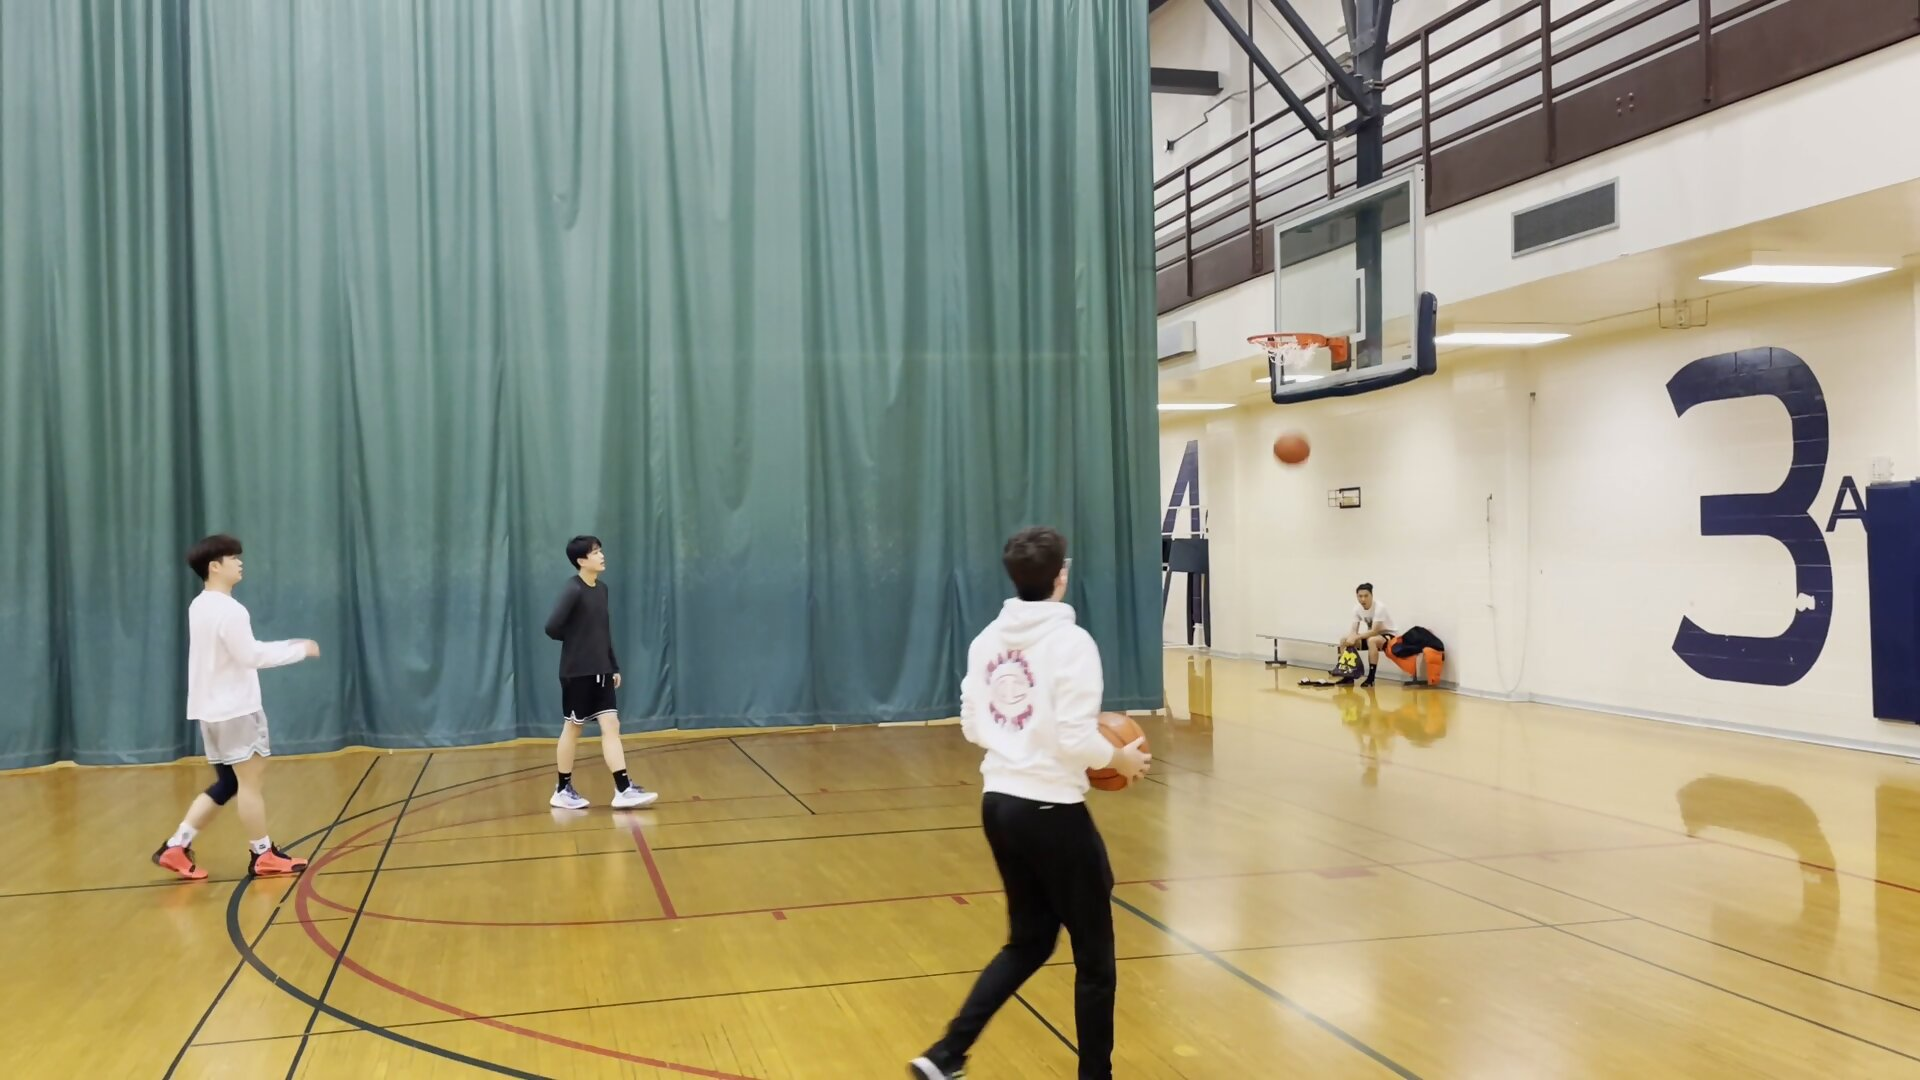ball: (1083, 708, 1169, 797), (1267, 426, 1316, 472)
net: (1257, 344, 1322, 368)
player: (944, 522, 1135, 1080), (150, 531, 333, 883), (535, 532, 668, 816), (1338, 577, 1405, 692)
rim: (1241, 327, 1335, 346)
